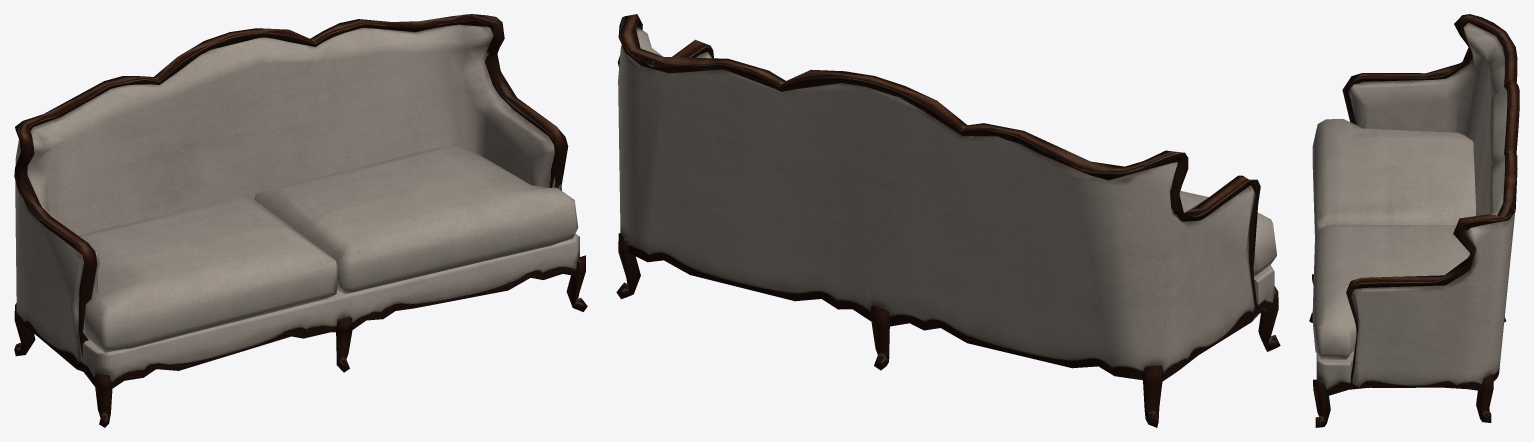
The model's file is Sofa_01_lod2.glb.
3 renders of one model, left to right at view 1: azimuth 30°, elevation 25°; view 2: azimuth 150°, elevation 25°; view 3: azimuth 270°, elevation 25°, orthographic. The views are drawn at different scales.
Parts seen in each view (by area): view 1: Sofa_01; view 2: Sofa_01; view 3: Sofa_01.
Boxes of the visible parts, x1,y1,x2,y2 form: Sofa_01: (14, 14, 587, 427); Sofa_01: (616, 14, 1280, 427); Sofa_01: (1309, 14, 1519, 427).
Size of the model in its own units: 1.57 by 0.7831 by 0.6575.
Materials: 1 (1 with a texture image).
